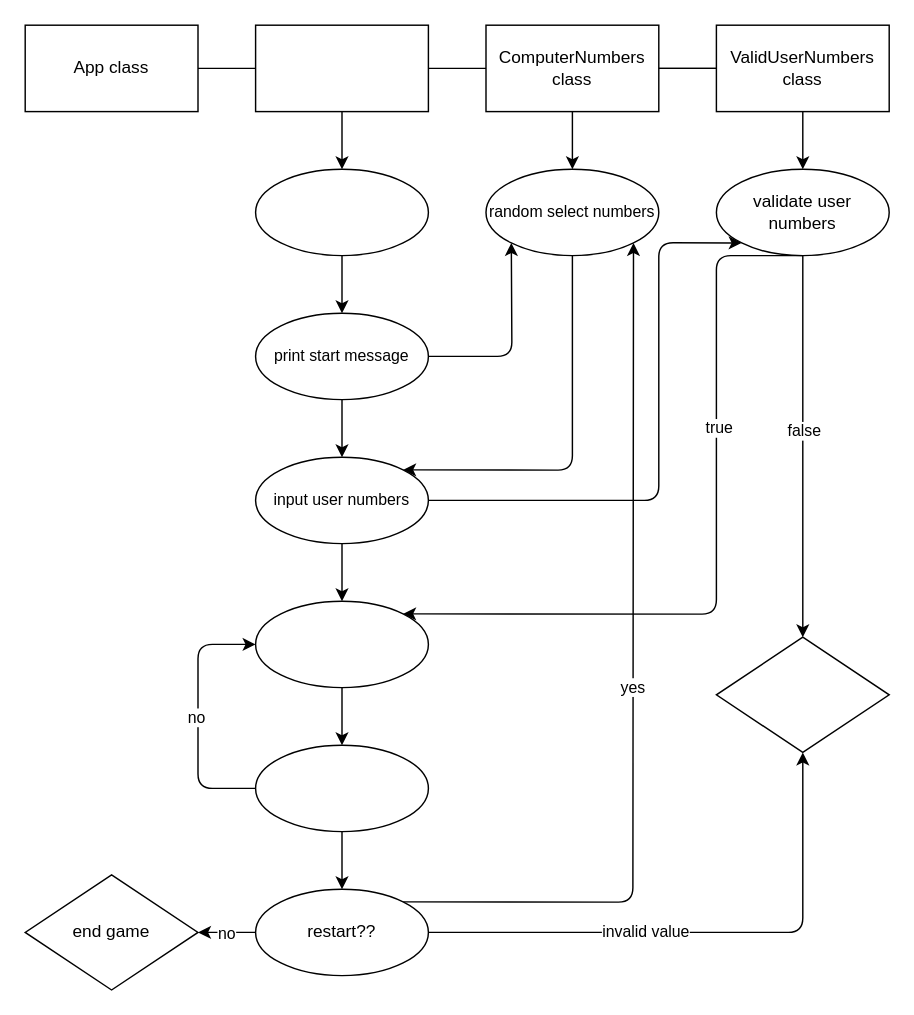
Image size: 914x1015. Some labels were removed from this diagram. Here are the shapes that lost their labels. From the top down, the box of each, then its label:
(254, 24, 428, 112): BaseballGame class
(254, 168, 428, 256): game start
(254, 600, 428, 688): progress turn
(715, 636, 889, 752): throw error
(254, 744, 428, 832): 3strike??
